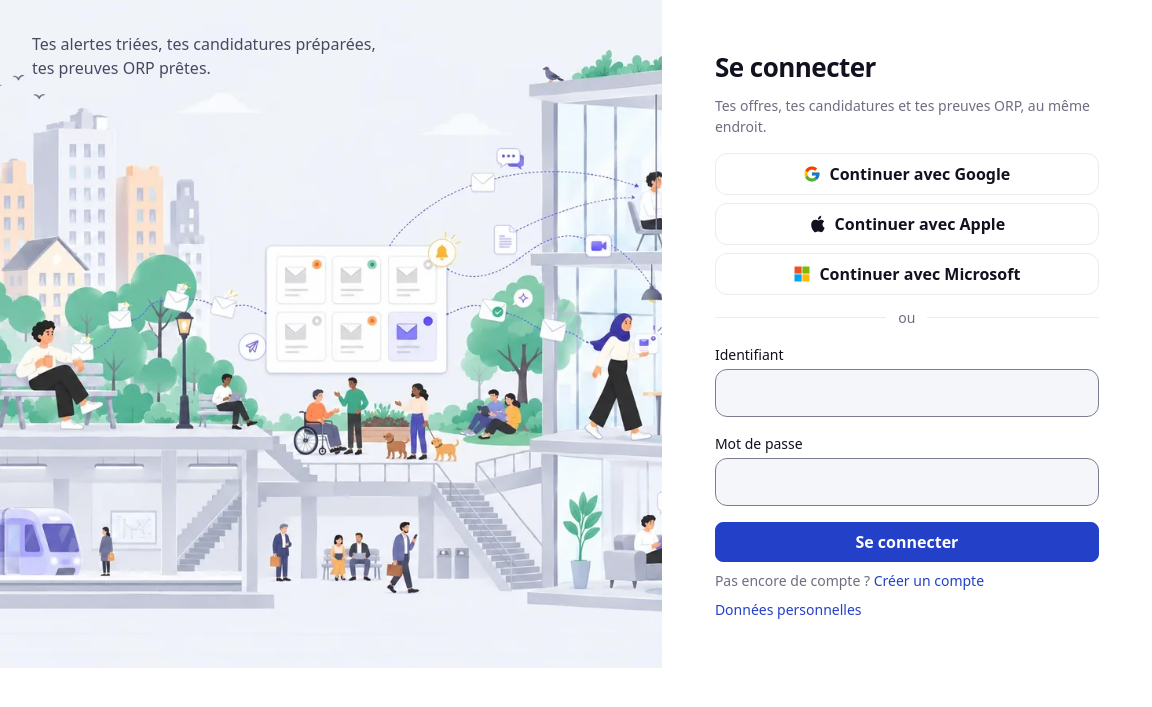
Test: LoginView, demander un compte (docs/102) › un compte qui attend la validation : le message du serveur, tel quel
In the field with test id "username": [907, 393] box [715,369,1099,417], type "camille"
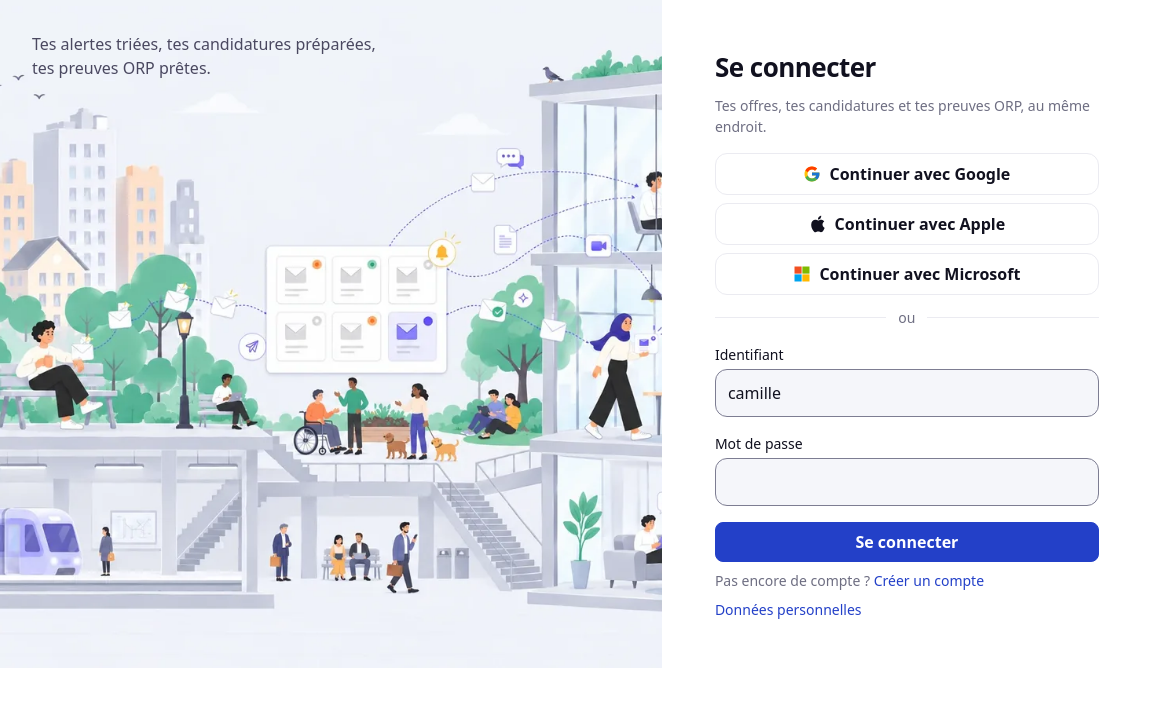
In the password field with test id "password": [907, 482] box [715,458,1099,506], type "un-mot-de-passe-solide"
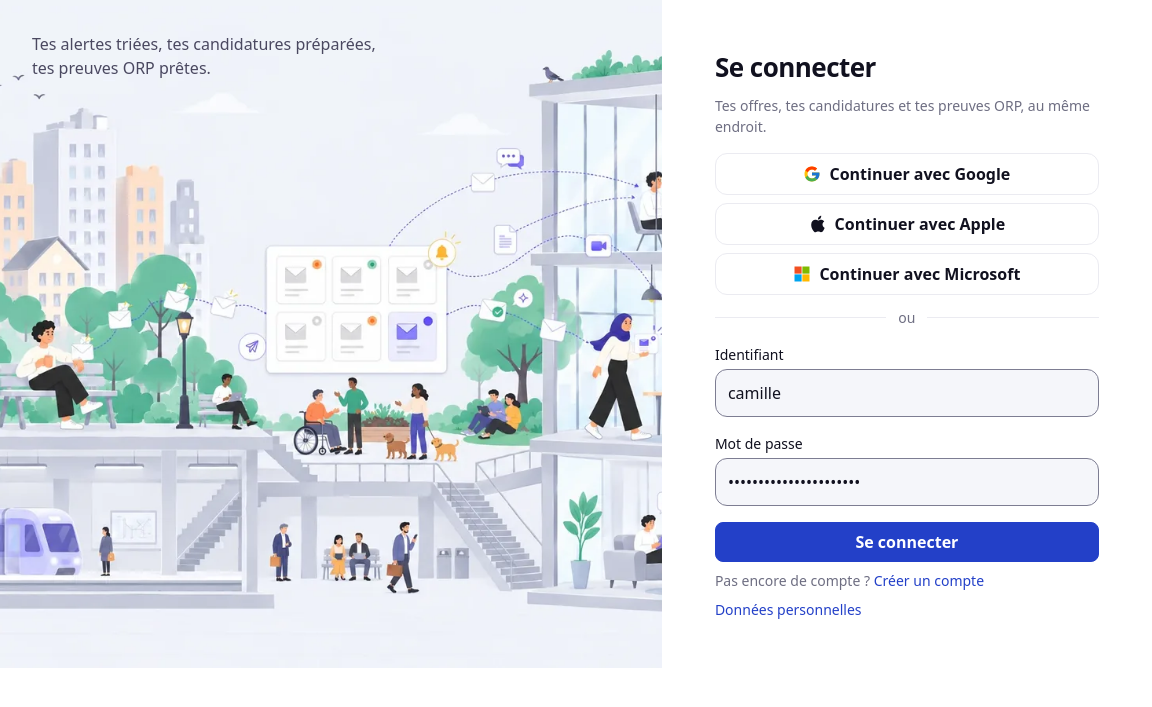
Submit the form with test id "login-form", box [715,344,1099,562]
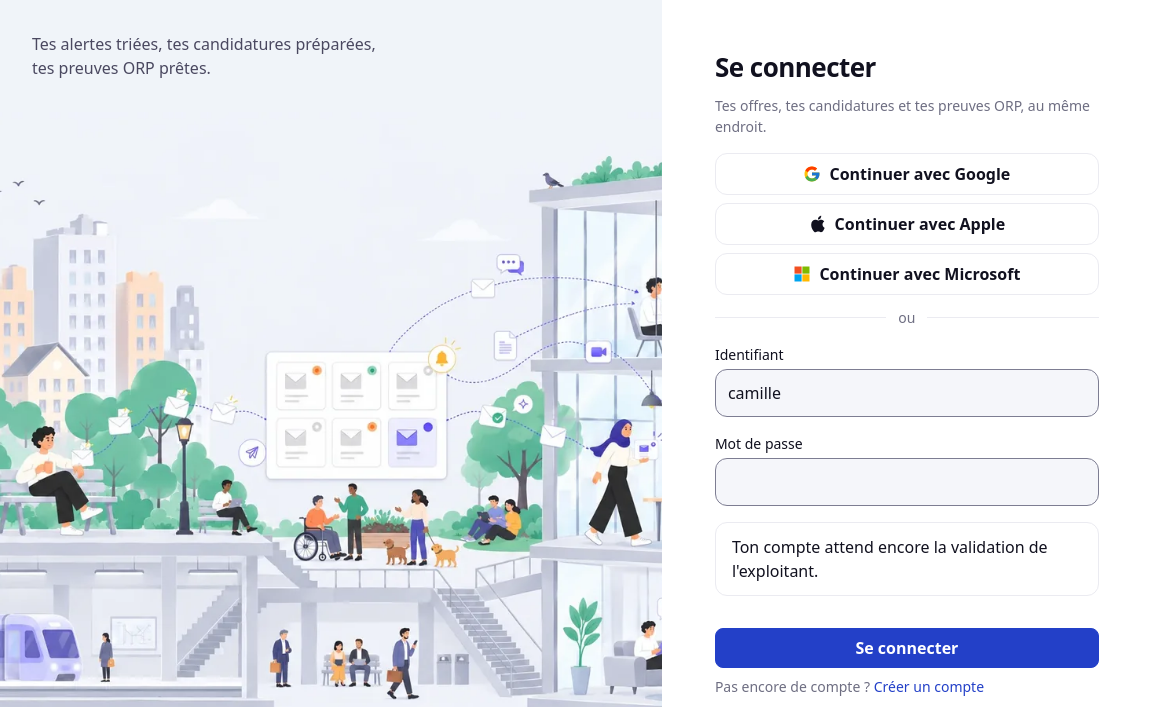
Expected: the message with test id "login-error" reads "Ton compte attend encore la validation de l'exploitant.", [732,536,1048,582]
